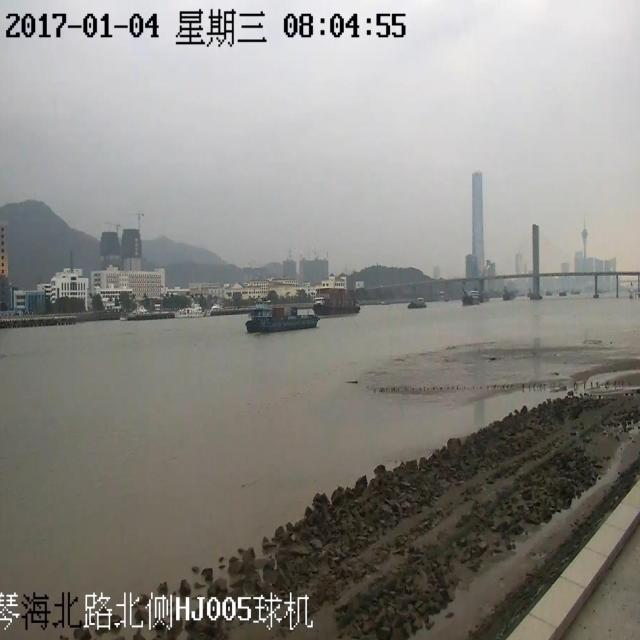cargoship: (243, 271, 321, 334)
